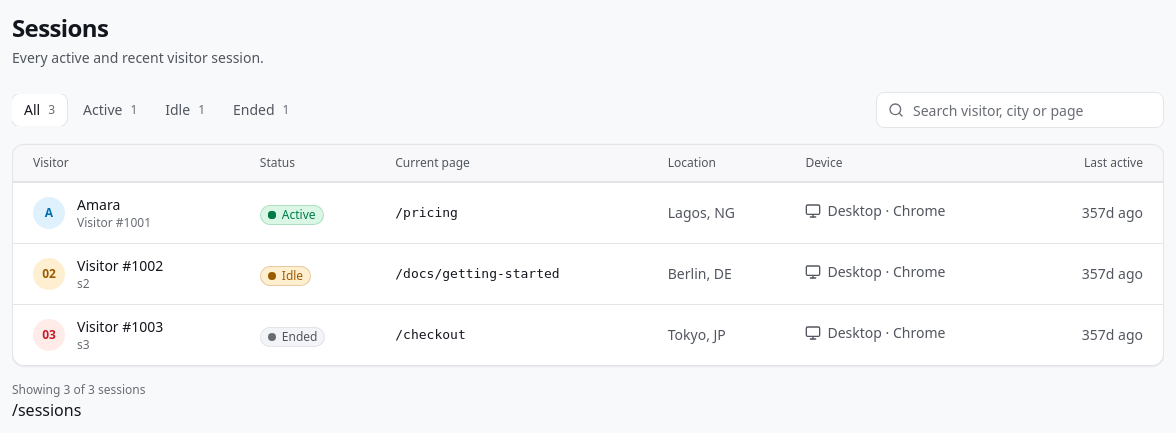
SessionsPage › searches by city, name or page
The width and height of the screenshot is (1176, 433).
Type "berlin" into the search field named "Search sessions".
click(1020, 110); type("berlin")  # box [876,92,1164,128]
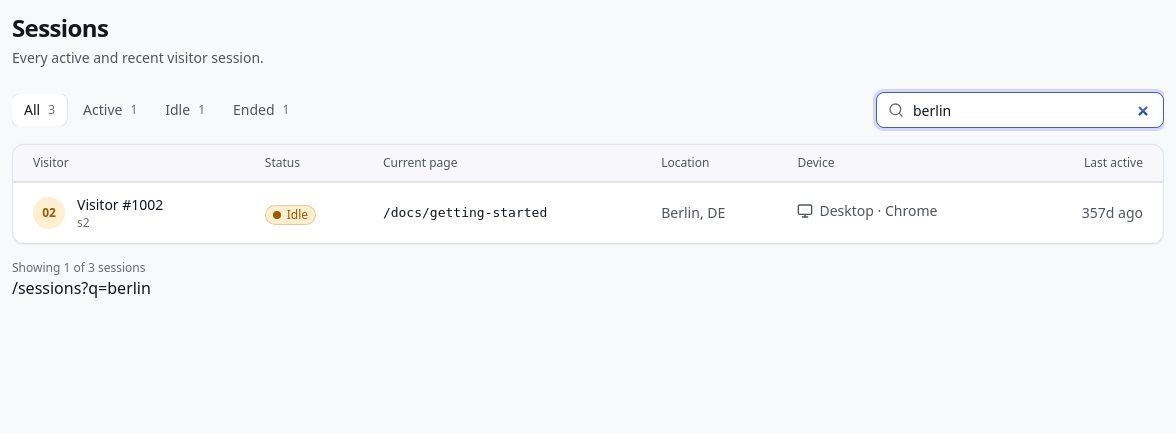
Check: the text with test id "location" shows "q=berlin", box [12,277,151,299]
